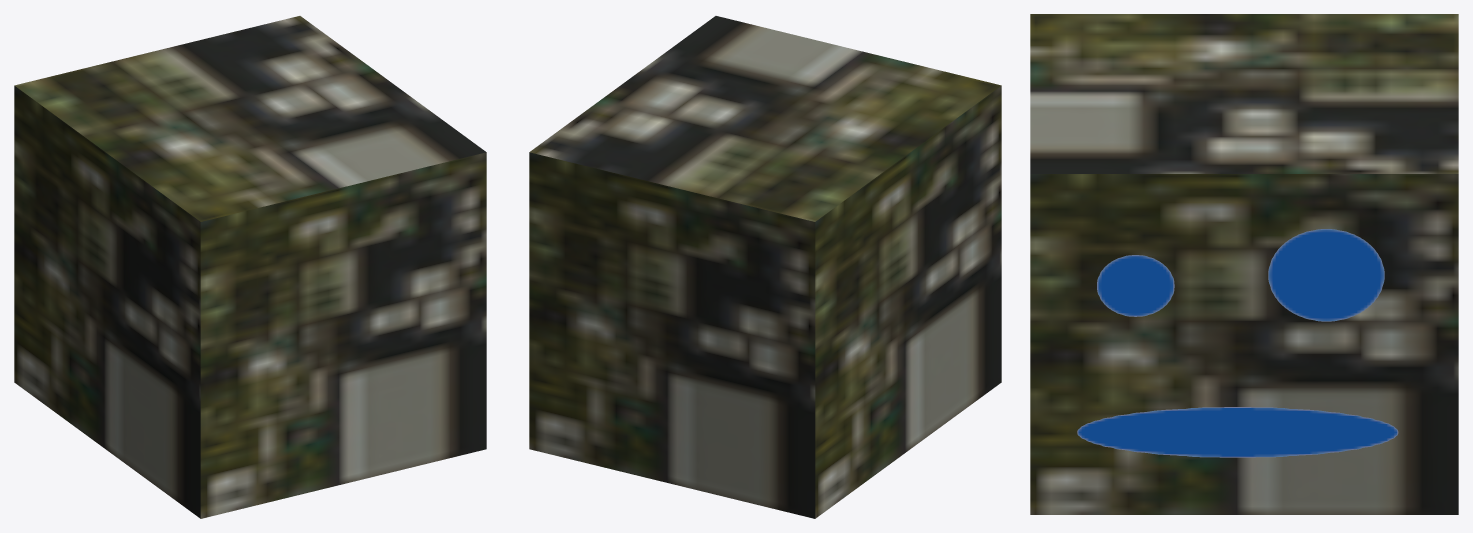
Rendered from robothead.FBX.
The picture shows the model from 3 angles, left to right: view 1: azimuth 30°, elevation 25°; view 2: azimuth 150°, elevation 25°; view 3: azimuth 270°, elevation 25°; orthographic projection. The views are drawn at different scales.
Visible parts, largest first — view 1: Box002; view 2: Box002; view 3: Box002.
Boxes of the visible parts, x1=… form: Box002: x1=14, y1=16, x2=486, y2=518; Box002: x1=529, y1=16, x2=1001, y2=518; Box002: x1=1030, y1=14, x2=1458, y2=514.
Bounding box in the file's own units: 5.61 × 5.43 × 6.19.
Materials: 2 (2 with a texture image).
